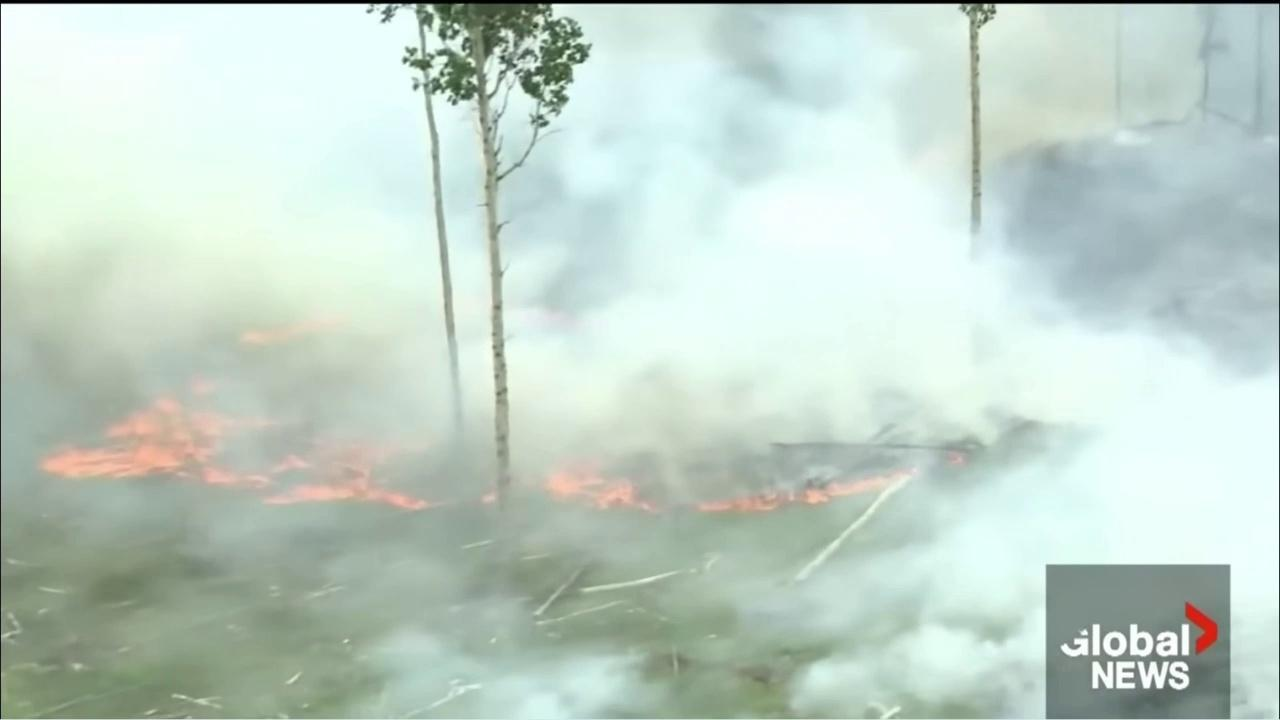fire: (35, 375, 435, 514), (696, 464, 922, 514), (537, 450, 666, 518), (236, 323, 298, 350), (946, 450, 968, 467), (479, 492, 499, 506)
smoke: (3, 5, 1280, 720)
